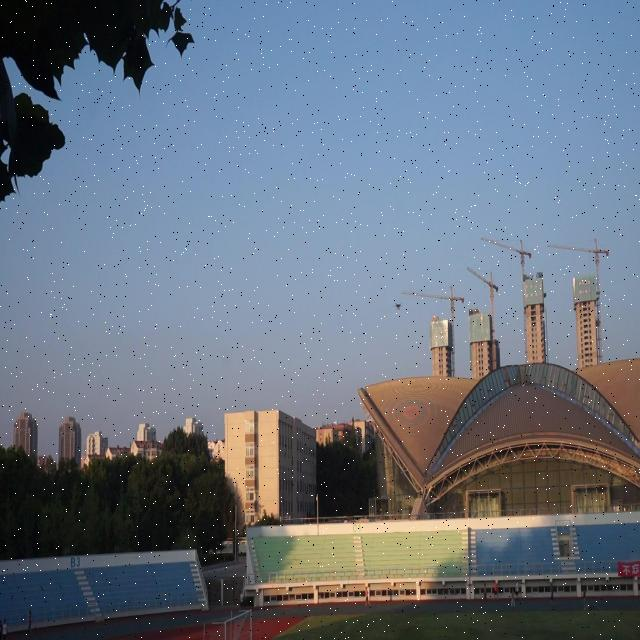UAV: (393, 302, 403, 311)
